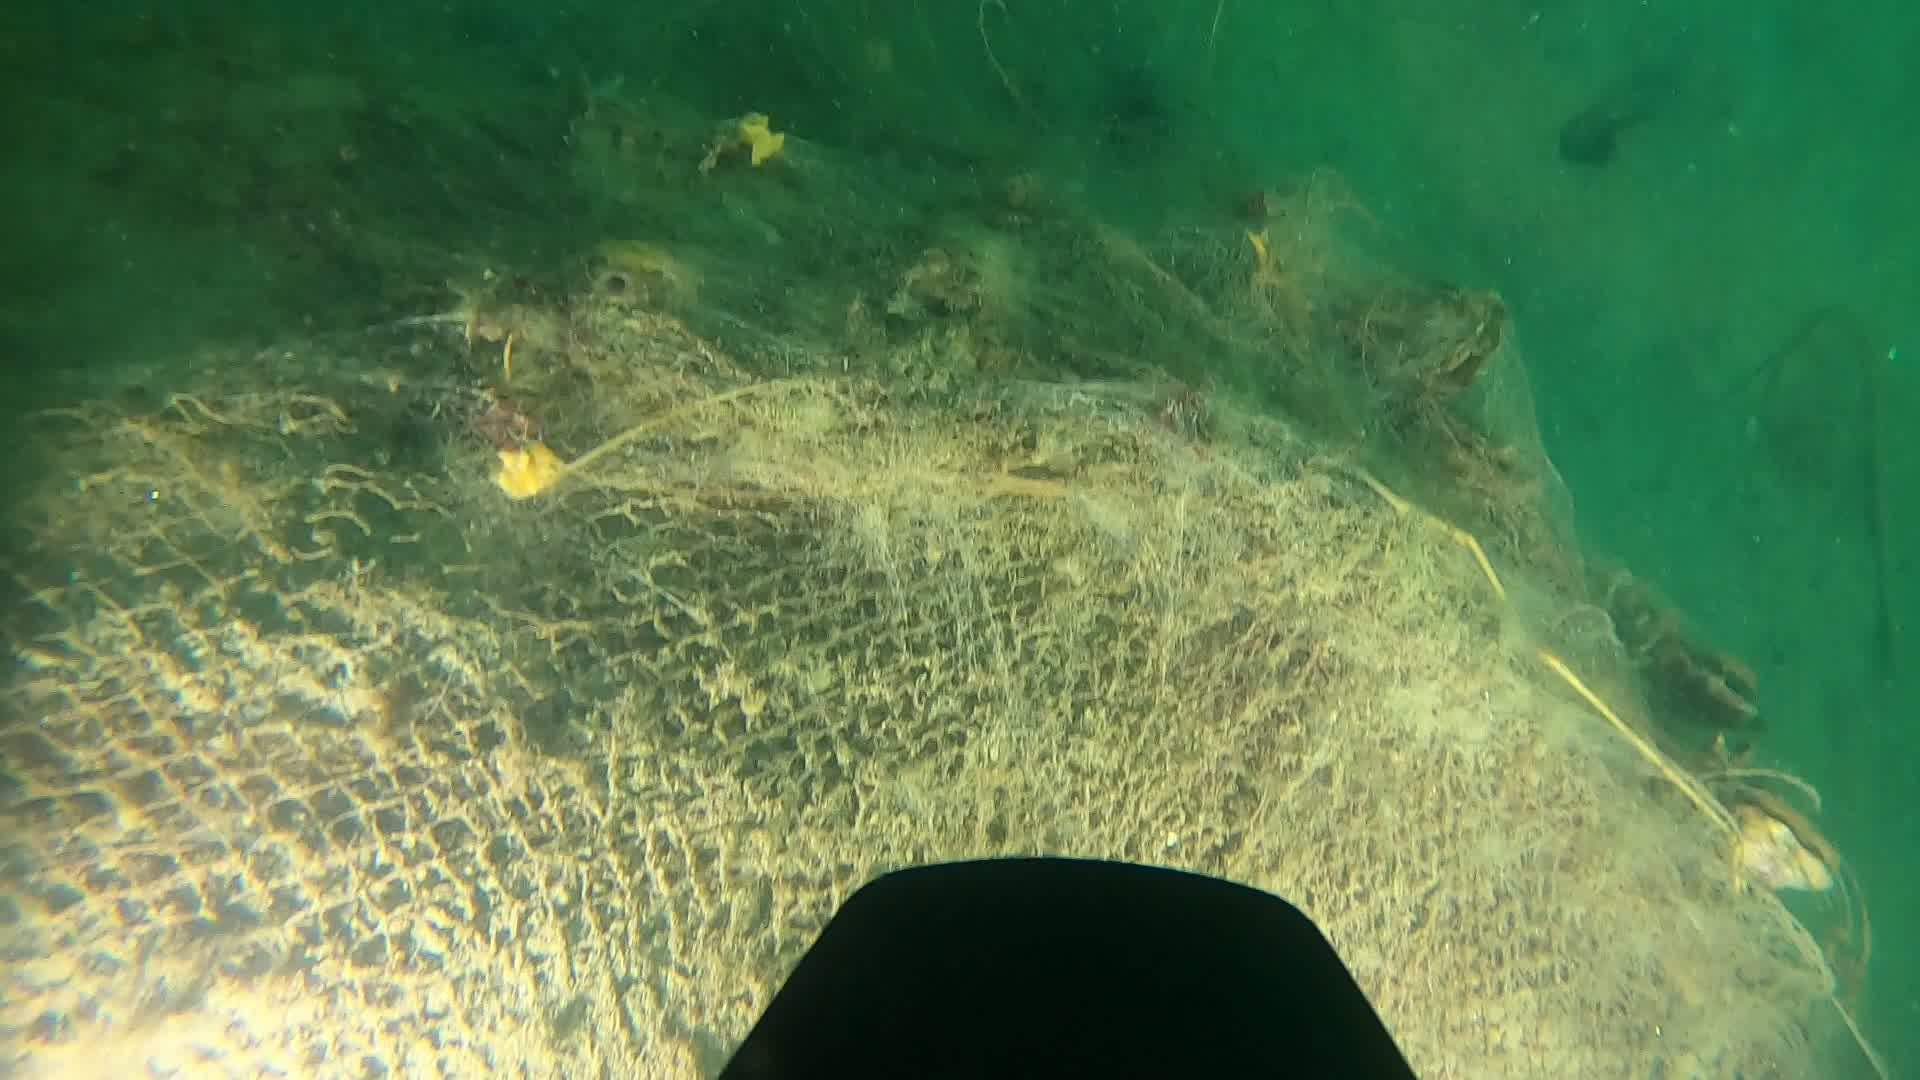fish net: (0, 320, 1622, 1080)
